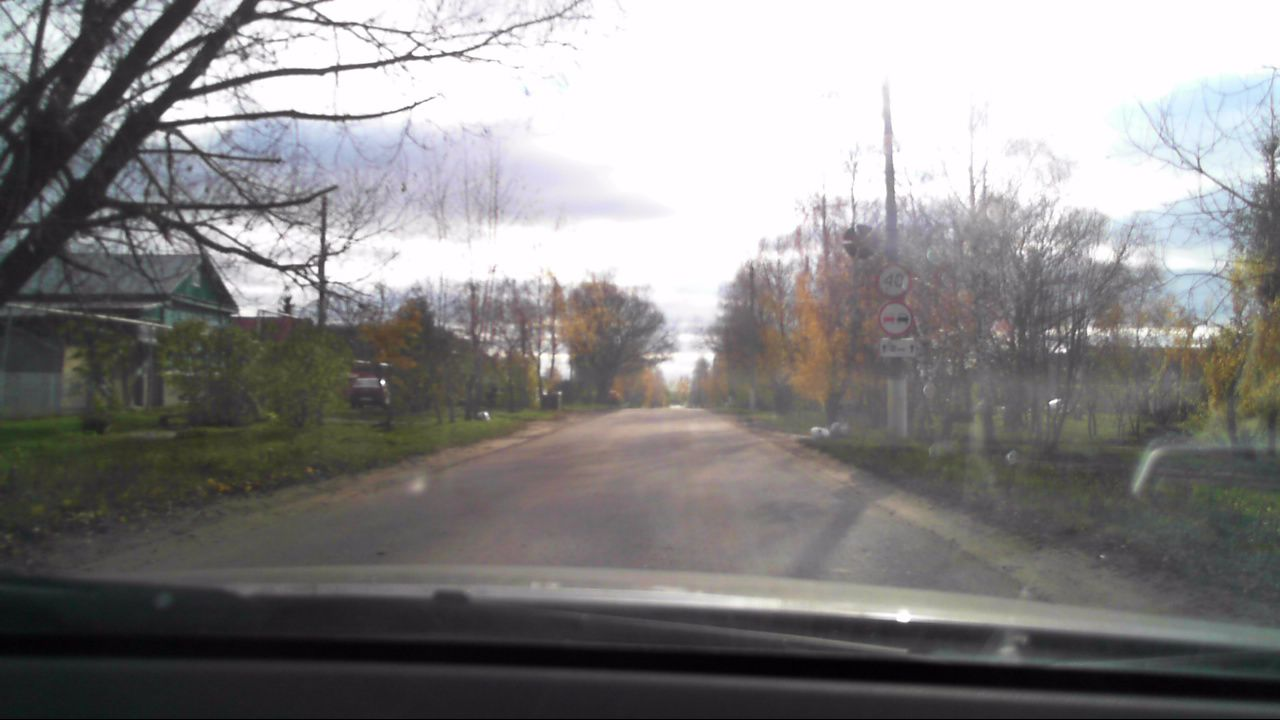speed_warning_40: (876, 263, 911, 294)
